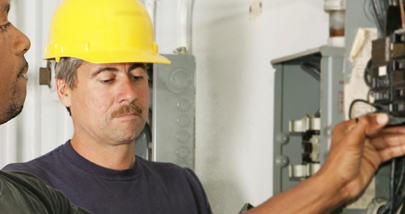epi: (41, 1, 220, 211)
